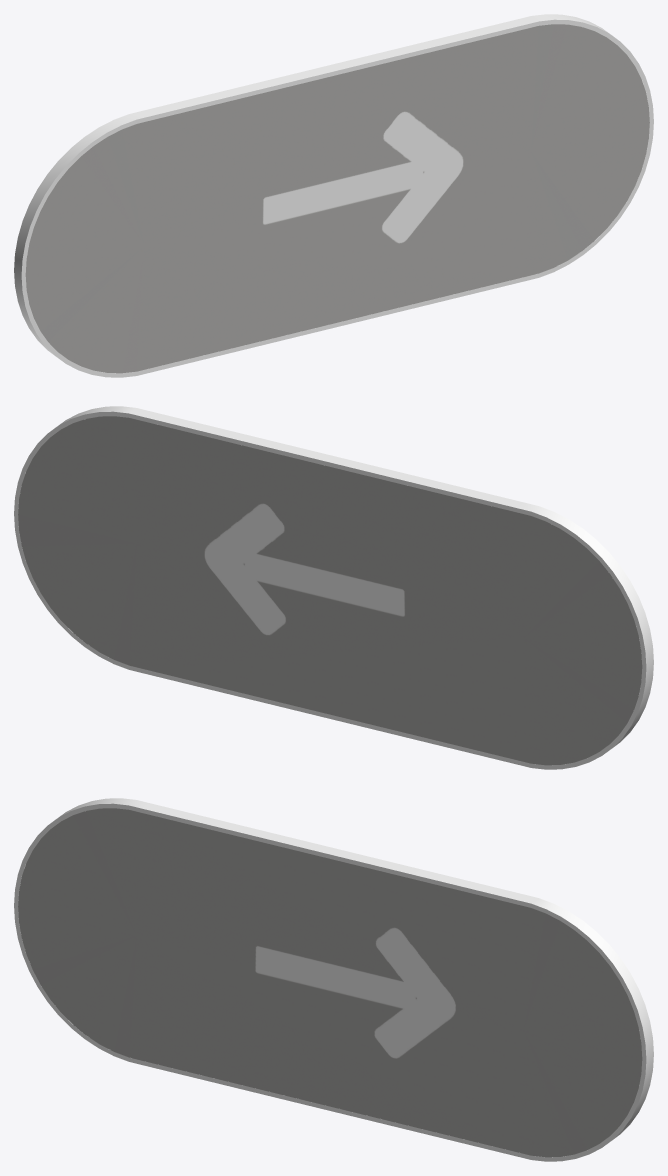
3 renders of one model, top to bottom at view 1: azimuth 30°, elevation 25°; view 2: azimuth 150°, elevation 25°; view 3: azimuth 330°, elevation 25°, orthographic.
Size of the model in its own units: 0.0517 by 0.02 by 0.00107.
2 materials, 1 textured.
